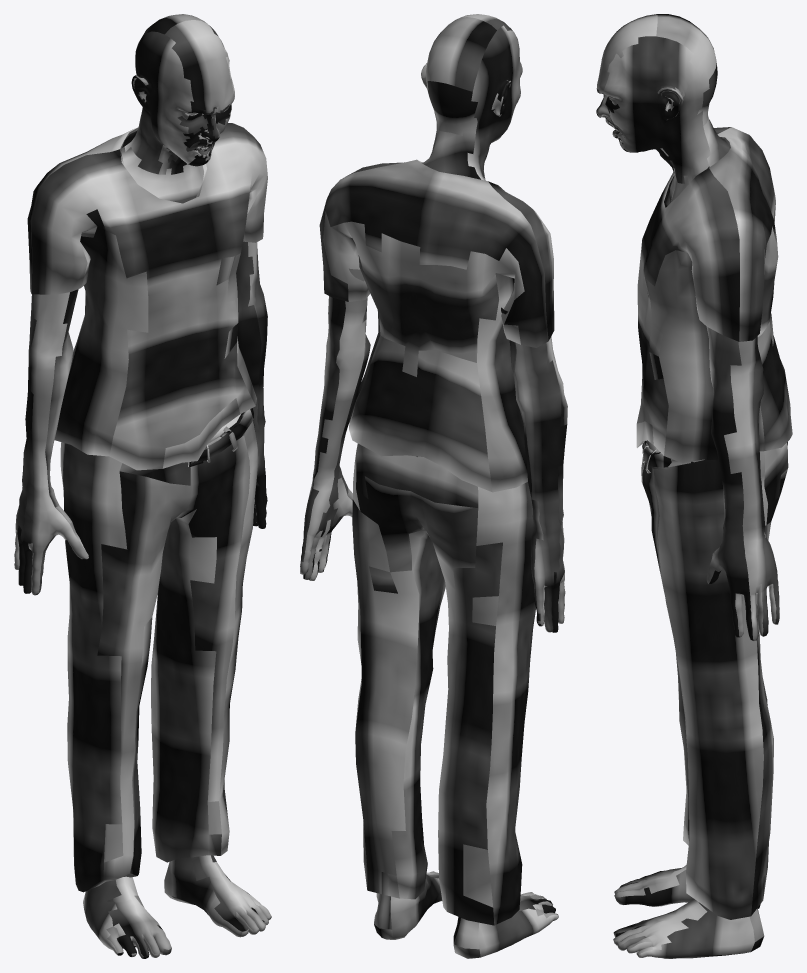
The model's file is zombie.fbx.
3 views of the same model, side by side, from view 1: azimuth 30°, elevation 25°; view 2: azimuth 150°, elevation 25°; view 3: azimuth 270°, elevation 25° (orthographic). The views are drawn at different scales.
Parts seen in each view (by area): view 1: Body.001; view 2: Body.001; view 3: Body.001.
Boxes of the visible parts, bbox=[...] form: Body.001: bbox=[14, 14, 271, 958]; Body.001: bbox=[300, 14, 567, 958]; Body.001: bbox=[596, 14, 792, 958].
Size of the model in its own units: 152 by 538 by 105.
